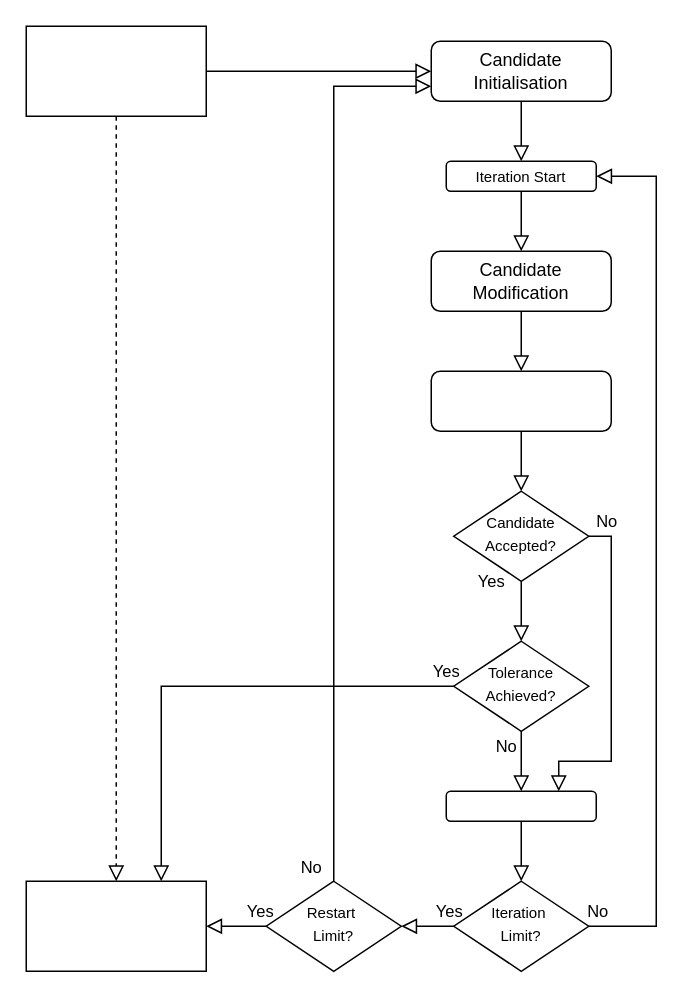
Image size: 698x998. Some labels were removed from this diagram. The shapes that lost their labels are listed below. From the top down, each one's box as (x1, y1, x2, y2) in pixels, then its label:
(25, 25, 206, 116): Summary Statistics
(430, 370, 611, 431): Candidate Evaluation
(445, 790, 596, 821): Iteration End
(25, 880, 206, 971): Final Candidate
